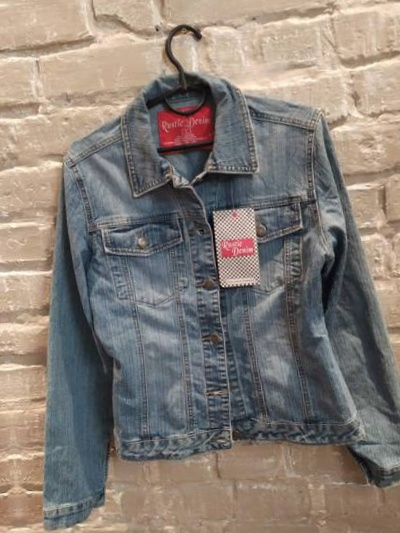Blazer: (22, 57, 400, 523)
